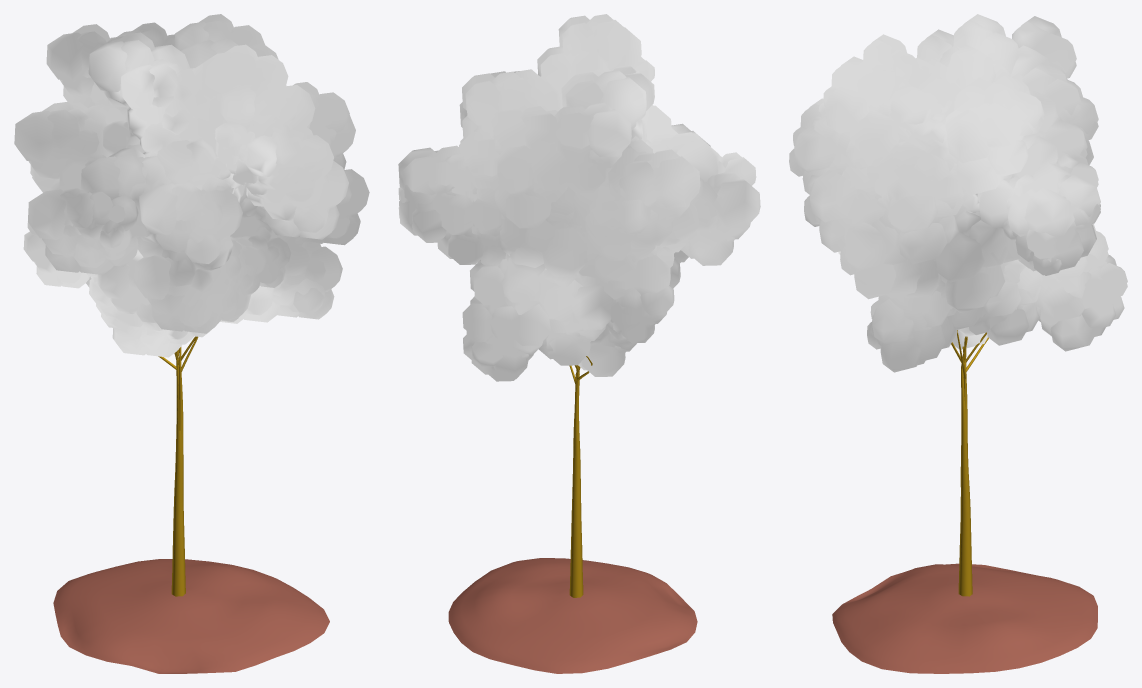
Rendered from setup.glb.
The picture shows the model from 3 angles, left to right: view 1: azimuth 30°, elevation 25°; view 2: azimuth 150°, elevation 25°; view 3: azimuth 270°, elevation 25°; orthographic projection. The views are drawn at different scales.
Parts seen in each view (by area): view 1: Foliage, base, bark; view 2: Foliage, base, bark; view 3: Foliage, base, bark.
Boxes of the visible parts, left/top/right/bottom form: Foliage: left=14, top=14, right=369, bottom=357; base: left=53, top=559, right=329, bottom=673; bark: left=158, top=336, right=198, bottom=596; Foliage: left=398, top=14, right=760, bottom=381; base: left=448, top=558, right=697, bottom=673; bark: left=569, top=356, right=592, bottom=597; Foliage: left=789, top=14, right=1127, bottom=372; base: left=832, top=563, right=1097, bottom=673; bark: left=951, top=330, right=988, bottom=596.
Size of the model in its own units: 7.95 by 14.4 by 7.52.
